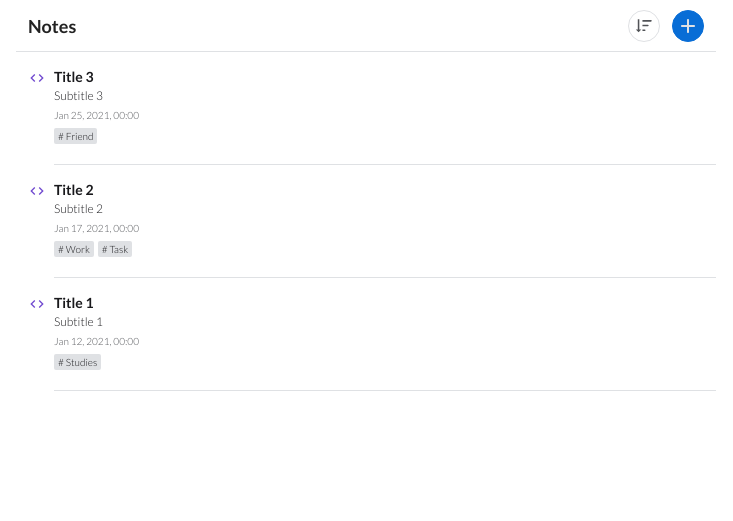
Test: Note List Container › adds a new item in the note list
This screenshot has width=733, height=521.
What coordinates should you click on to do the following:
click the element with test id "add-button"
I would click on:
 (688, 26)
Its box is [672, 10, 704, 42].
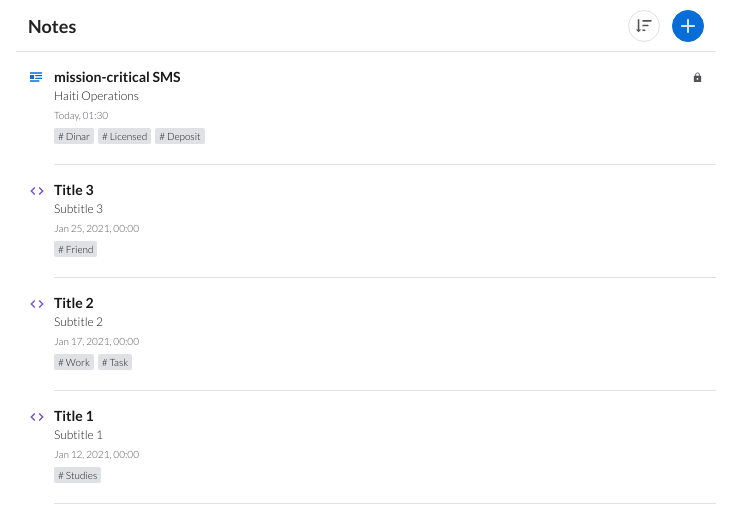
Now the number of elements with test id "note-item" is 4, box [16, 52, 716, 165]; [16, 165, 716, 278]; [16, 278, 716, 391]; [16, 391, 716, 504]
